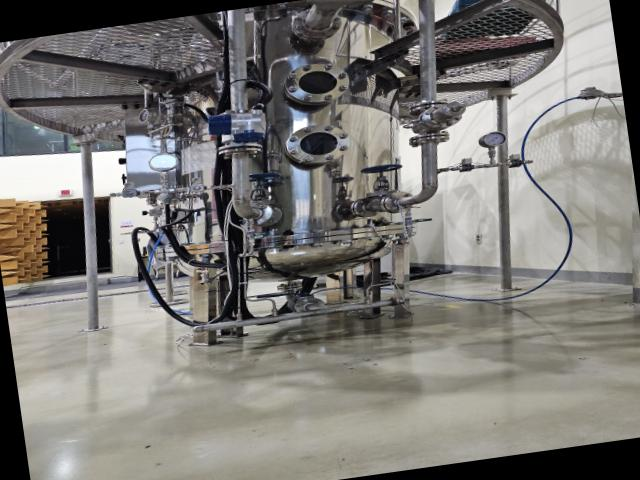Flange: (281, 59, 352, 108), (282, 120, 352, 169)
Flush Ring: (290, 5, 344, 44), (233, 200, 274, 228), (216, 140, 264, 162), (380, 190, 418, 214), (407, 98, 452, 118), (407, 130, 451, 148), (352, 196, 384, 219), (294, 296, 326, 316)
GasRegulator: (137, 94, 205, 150)
Nuts: (115, 186, 146, 200), (182, 181, 212, 195), (450, 162, 484, 174), (502, 157, 532, 170)
Piston Valve: (359, 162, 406, 198), (246, 170, 286, 207)
Pressure Gage: (146, 151, 182, 190), (477, 130, 511, 166)
